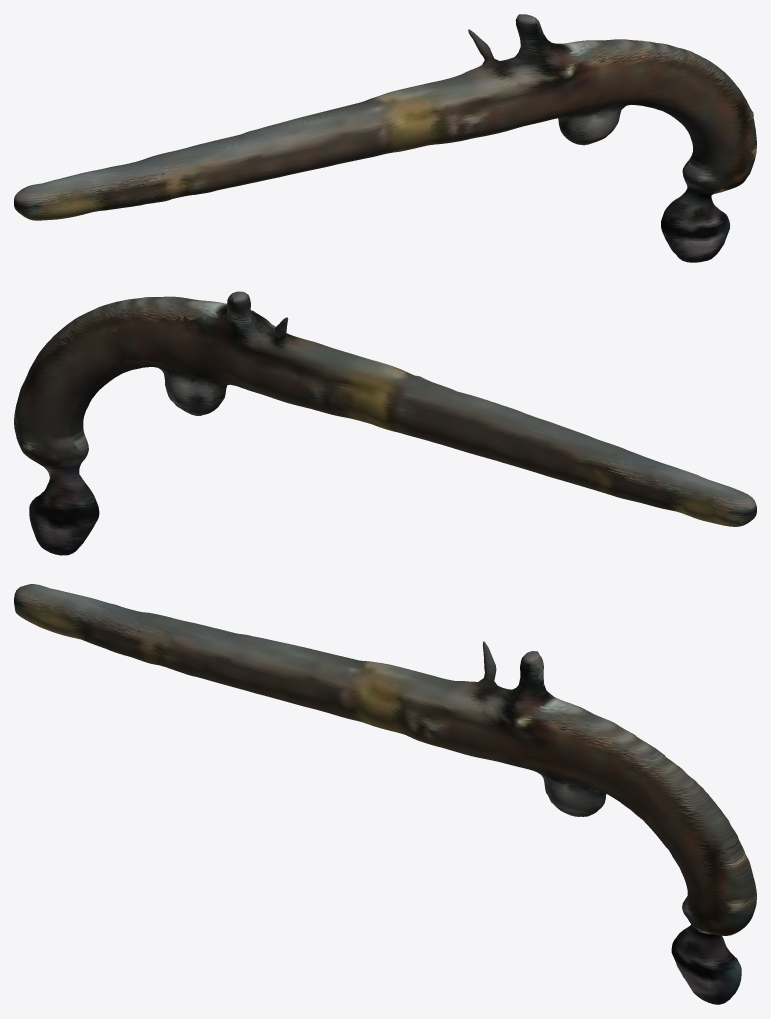
The model's file is kfl-2170.glb.
3 renders of one model, top to bottom at view 1: azimuth 30°, elevation 25°; view 2: azimuth 150°, elevation 25°; view 3: azimuth 330°, elevation 25°, orthographic. The views are drawn at different scales.
Visible parts, largest first — view 1: geometry_0; view 2: geometry_0; view 3: geometry_0.
Part boxes in pixels (bbox=[...]): geometry_0: bbox=[14, 14, 756, 262]; geometry_0: bbox=[14, 291, 756, 555]; geometry_0: bbox=[14, 584, 756, 1004].
Size of the model in its own units: 0.9919 by 0.3806 by 0.1166.
1 material, 1 textured.
